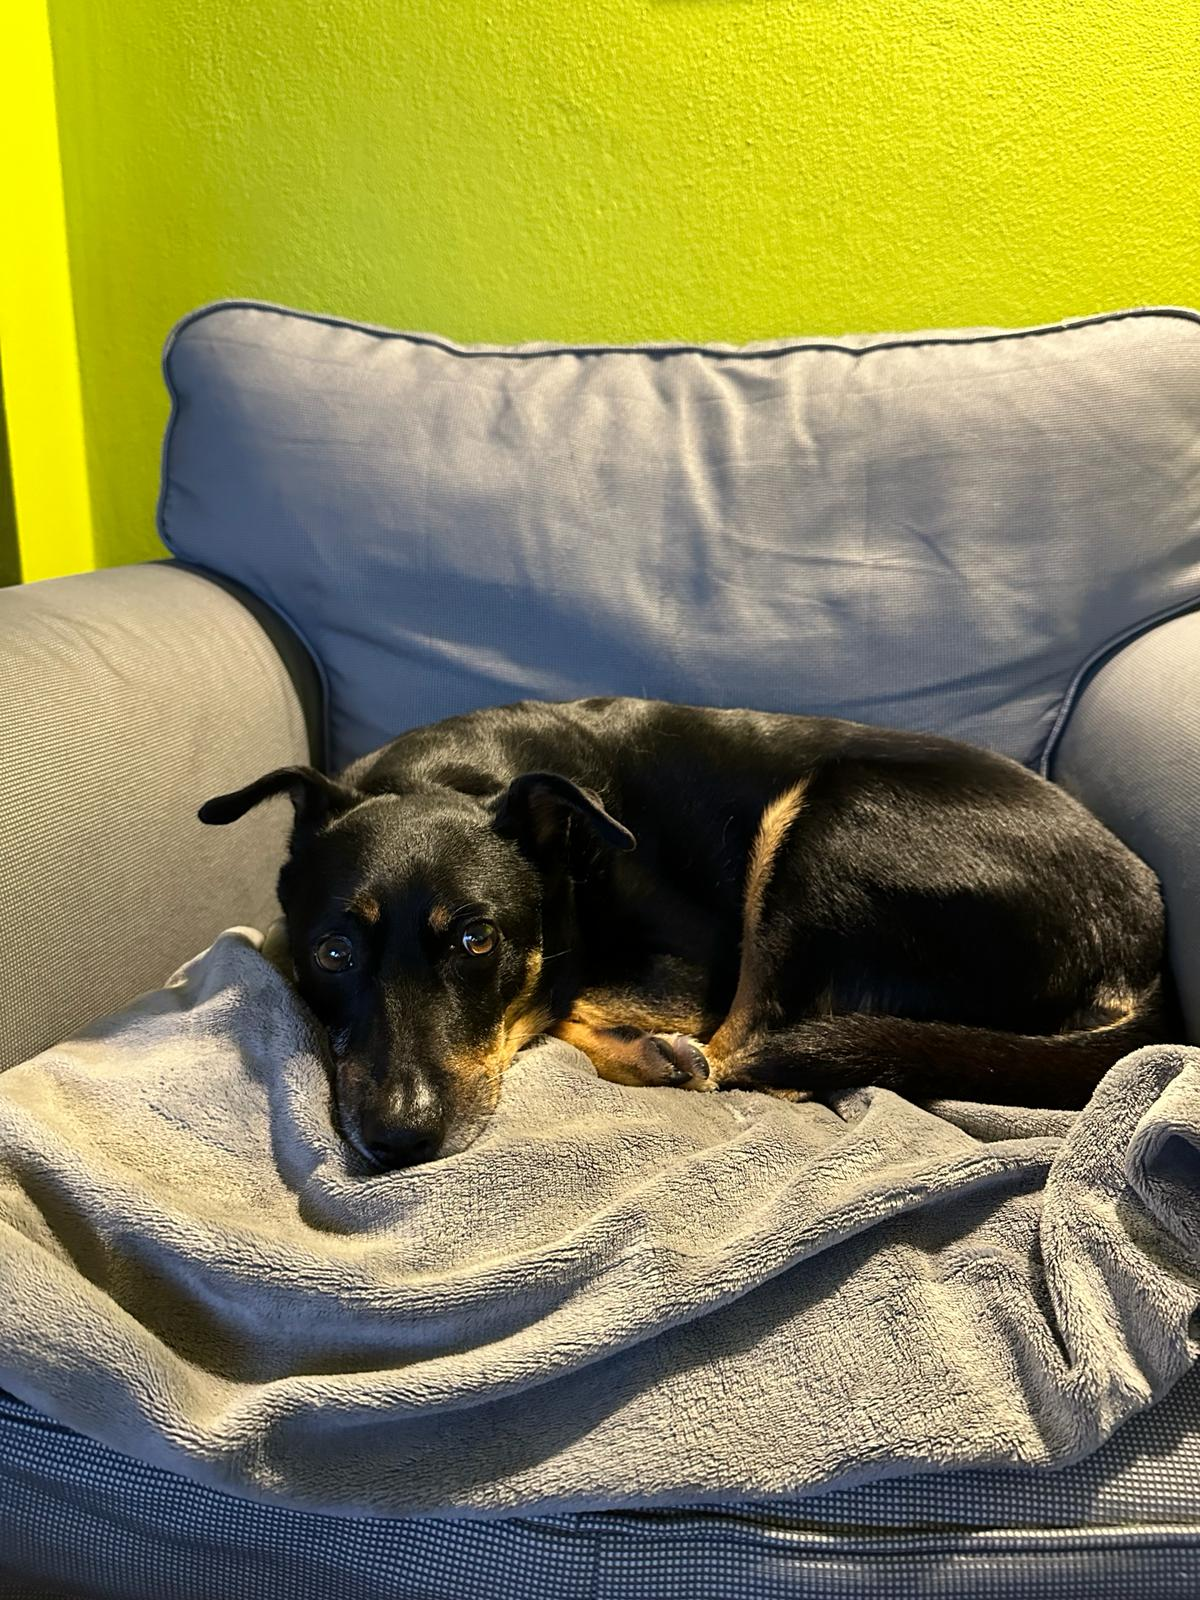reksio: (159, 585, 1174, 1265)
